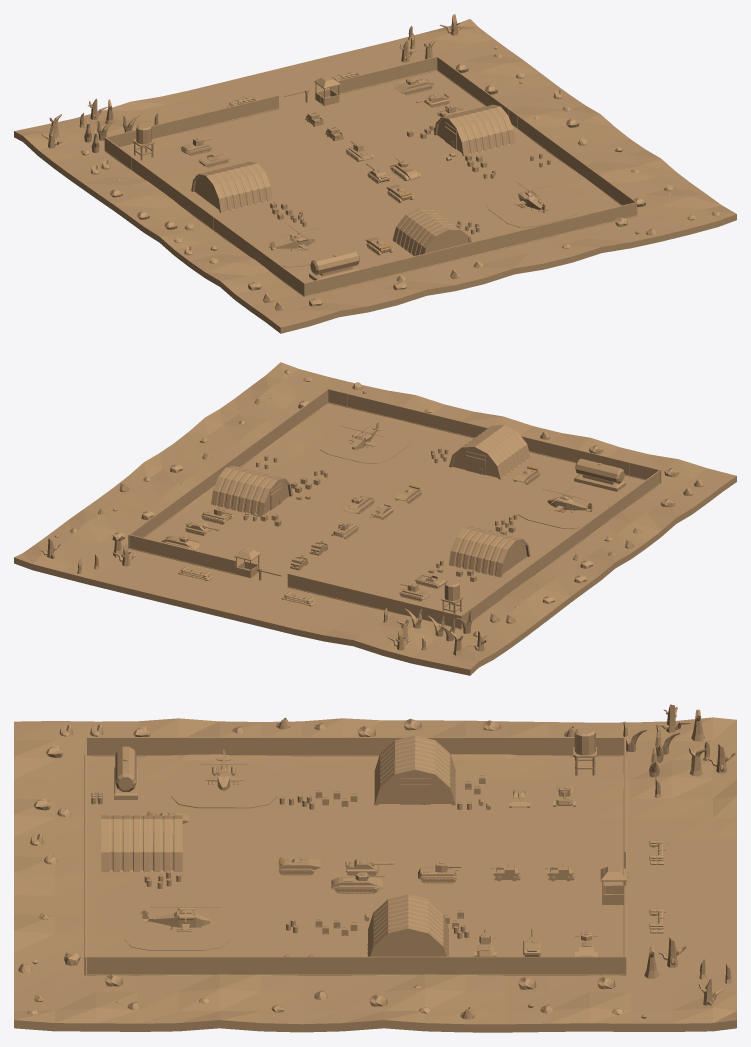
File: Low_Poly_Military_Base_Pack.glb
3 views of the same model, one above another, from view 1: azimuth 30°, elevation 25°; view 2: azimuth 150°, elevation 25°; view 3: azimuth 270°, elevation 25° (orthographic). The views are drawn at different scales.
Visible parts, largest first — view 1: Plane.002_Material.003_0, Hangar_Sand.005_pESOK_0, Hangar_Grey.004_serii_0, Hangar_Green.004_green_0, Helipad.006_silver.001_0, Helipad.007_silver.001_0, Drum_1.004_silver.001_0; view 2: Plane.002_Material.003_0, Hangar_Sand.005_pESOK_0, Hangar_Grey.004_serii_0, Hangar_Green.004_green_0, Helipad.006_silver.001_0, Helipad.007_silver.001_0, Drum_1.004_silver.001_0; view 3: Plane.002_Material.003_0, Hangar_Green.004_green_0, Hangar_Grey.004_serii_0, Hangar_Sand.005_pESOK_0, Helipad.007_silver.001_0, Helipad.006_silver.001_0, Drum_1.004_silver.001_0, Helicopter_Sand.004_pESOK_0, Hangar_Sand.005_serii_0, Drum2.004_silver.001_0, Rocket_Sand.016_serii_0.
Part boxes in pixels (x1,y1,x2,y2): Plane.002_Material.003_0: [14, 19, 736, 333]; Hangar_Sand.005_pESOK_0: [191, 161, 272, 212]; Hangar_Grey.004_serii_0: [434, 104, 515, 156]; Hangar_Green.004_green_0: [392, 207, 471, 256]; Helipad.006_silver.001_0: [486, 188, 577, 227]; Helipad.007_silver.001_0: [253, 228, 344, 267]; Drum_1.004_silver.001_0: [310, 250, 359, 275]; Plane.002_Material.003_0: [14, 362, 736, 675]; Hangar_Sand.005_pESOK_0: [449, 526, 530, 577]; Hangar_Grey.004_serii_0: [211, 465, 292, 516]; Hangar_Green.004_green_0: [449, 425, 530, 479]; Helipad.006_silver.001_0: [319, 425, 410, 463]; Helipad.007_silver.001_0: [518, 490, 609, 528]; Drum_1.004_silver.001_0: [575, 458, 624, 483]; Plane.002_Material.003_0: [14, 717, 736, 1032]; Hangar_Green.004_green_0: [101, 815, 182, 871]; Hangar_Grey.004_serii_0: [367, 894, 448, 956]; Hangar_Sand.005_pESOK_0: [374, 735, 455, 805]; Helipad.007_silver.001_0: [171, 762, 277, 808]; Helipad.006_silver.001_0: [124, 905, 230, 950]; Drum_1.004_silver.001_0: [115, 746, 136, 791]; Helicopter_Sand.004_pESOK_0: [142, 906, 209, 930]; Hangar_Sand.005_serii_0: [400, 784, 430, 804]; Drum2.004_silver.001_0: [574, 727, 595, 755]; Rocket_Sand.016_serii_0: [205, 749, 244, 791].
Size of the model in its own units: 1797 by 136 by 1819.
